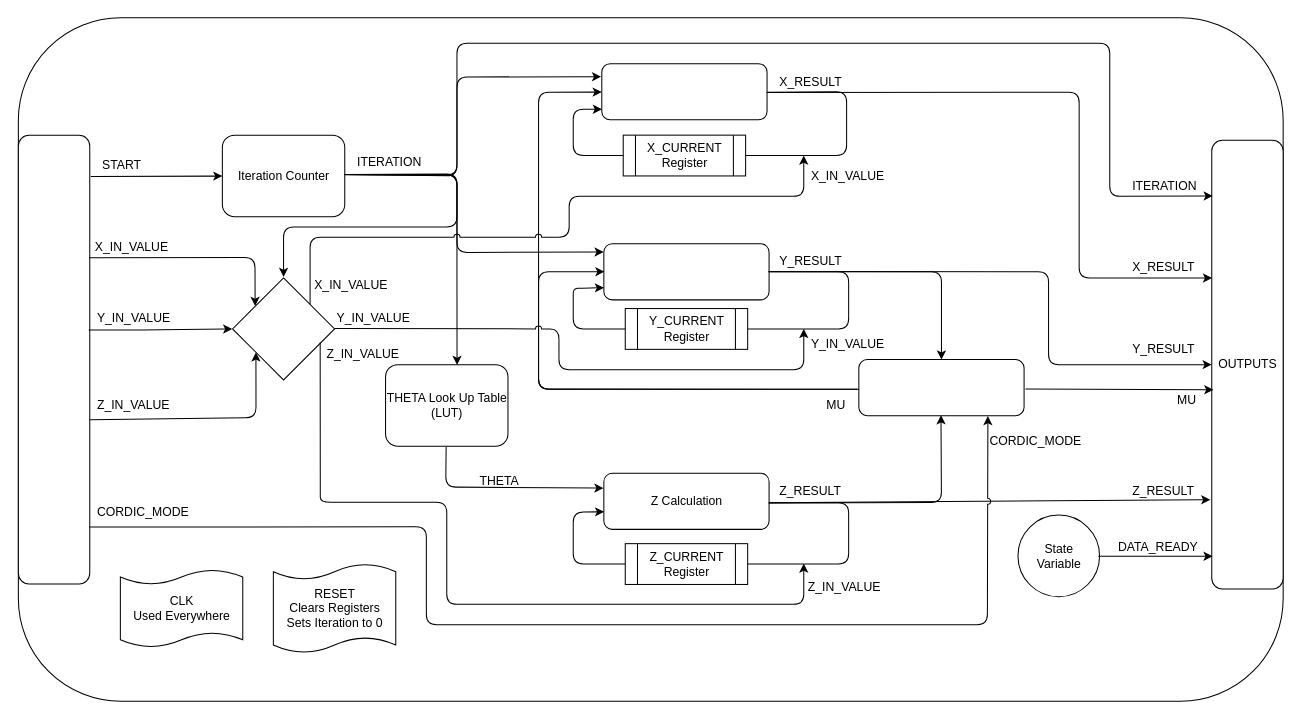
Image size: 1301x719. Some labels were removed from this diagram. The shapes that lost their labels are listed below. From the top down, each one's centre as x and y in pixels, then its label:
At point (684, 91): "X Calculation".
At point (686, 271): "Y Calculation".
At point (283, 328): "If Iteration is 0".
At point (53, 359): "INPUTS".
At point (941, 387): "MU Calculation".
